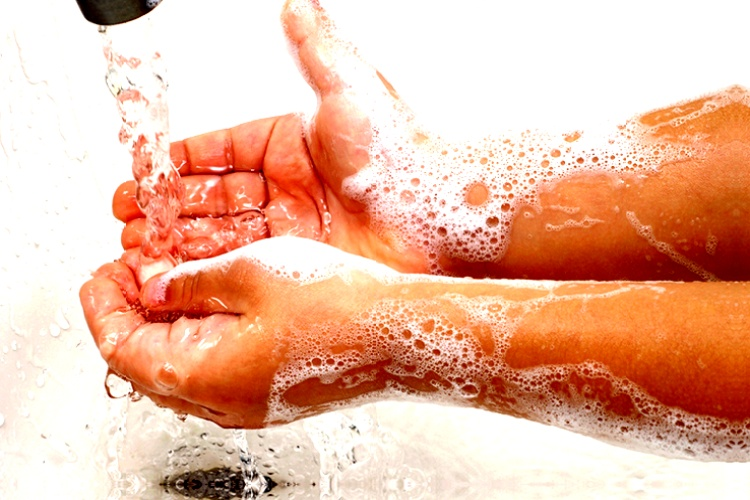washing hand: (8, 0, 621, 441)
